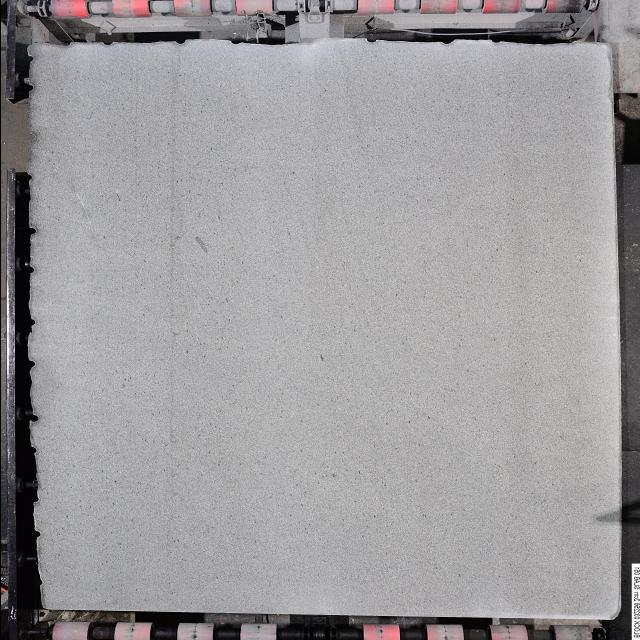chapa: (28, 39, 618, 619)
veio: (25, 413, 40, 425)
